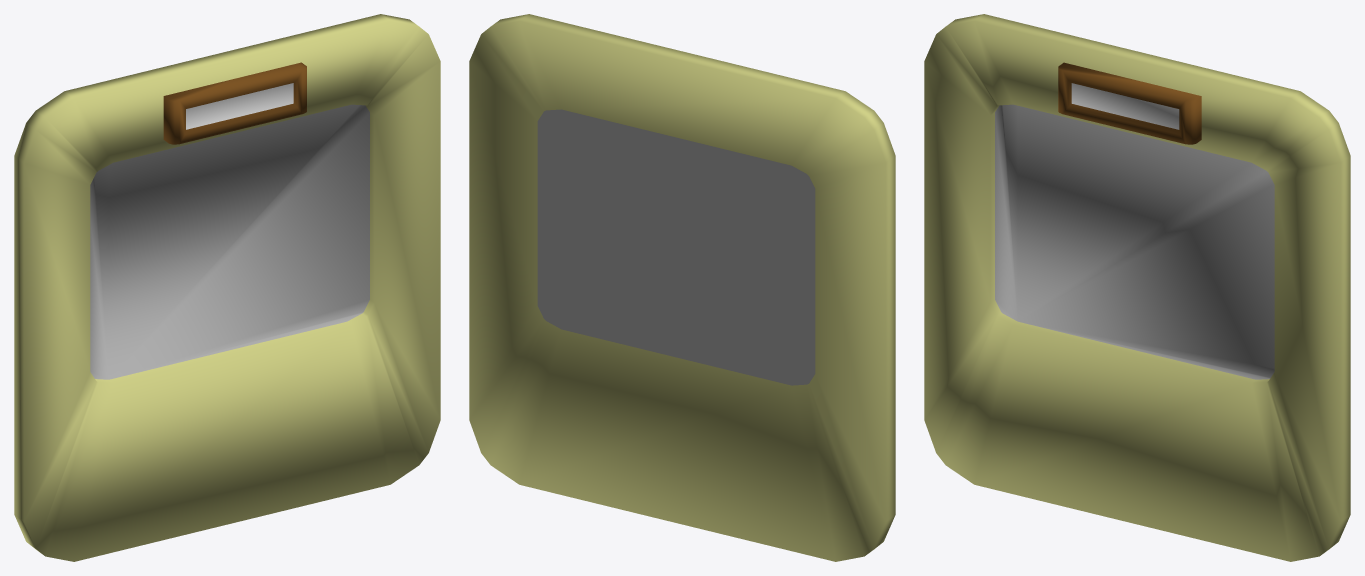
Rendered from ovenCoverKnobless.fbx.
The picture shows the model from 3 angles, left to right: view 1: azimuth 30°, elevation 25°; view 2: azimuth 150°, elevation 25°; view 3: azimuth 330°, elevation 25°; orthographic projection.
Parts seen in each view (by area): view 1: coverWithIndicator; view 2: coverWithIndicator; view 3: coverWithIndicator.
Boxes of the visible parts, x1,y1,x2,y2 form: coverWithIndicator: [14, 14, 440, 561]; coverWithIndicator: [469, 14, 895, 561]; coverWithIndicator: [924, 14, 1350, 561].
Bounding box in the file's own units: 318 × 338 × 24.36.
